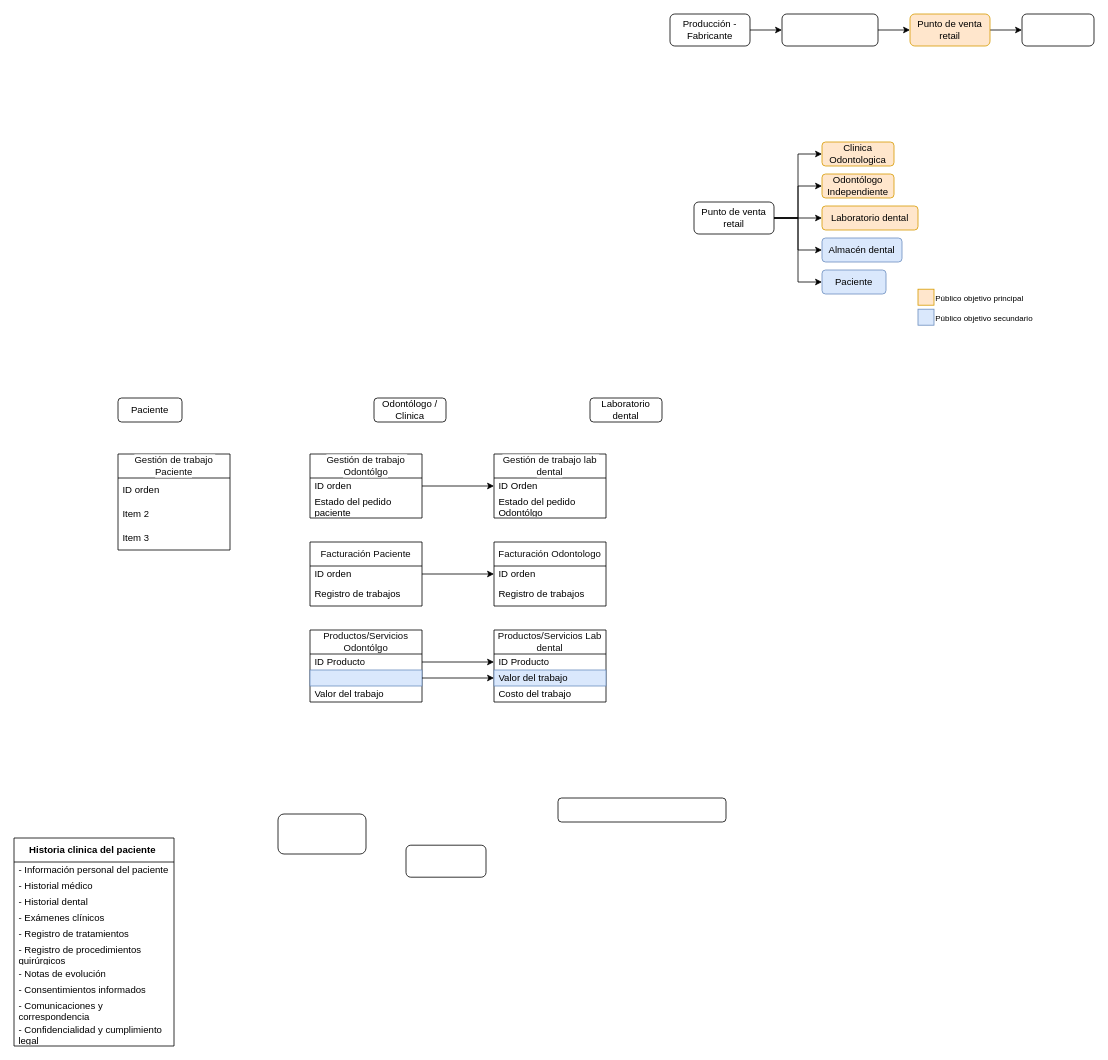
This 1108x1060 diagram has some shape labels left out. Each missing label, with the centre of its shape:
Centro de distribución - Almacén: (829,29)
Cliente final - Consumidor: (1057,29)
Comunicación con el Cliente: (445,860)
Costo: (365,677)
Facturación y Seguimiento Financiero: (321,833)
Gestión de la Producción: (641,809)
